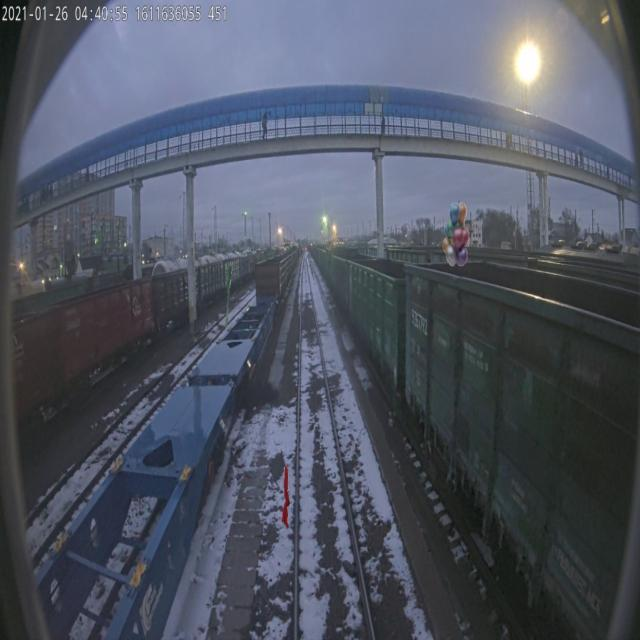balloon: (442, 202, 469, 266)
floating object: (281, 464, 291, 528), (225, 264, 232, 328)
